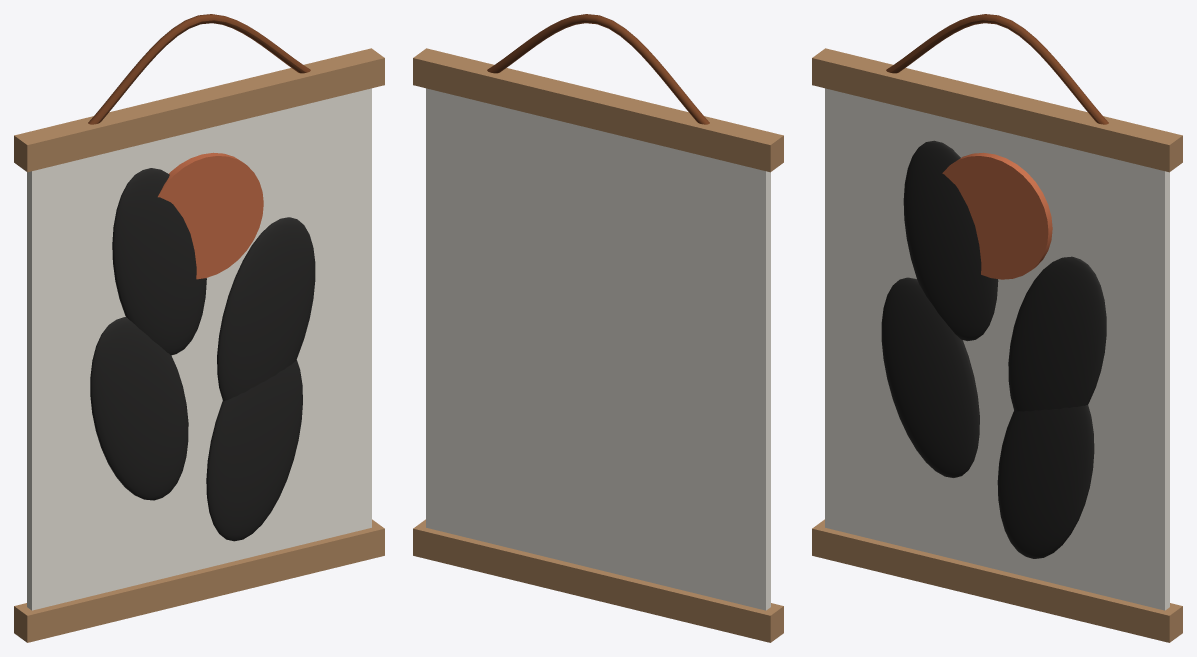
File: artisan_print.glb
3 renders of one model, left to right at view 1: azimuth 30°, elevation 25°; view 2: azimuth 150°, elevation 25°; view 3: azimuth 330°, elevation 25°, orthographic.
Bounding box in the file's own units: 1.24 × 1.92 × 0.0888.
